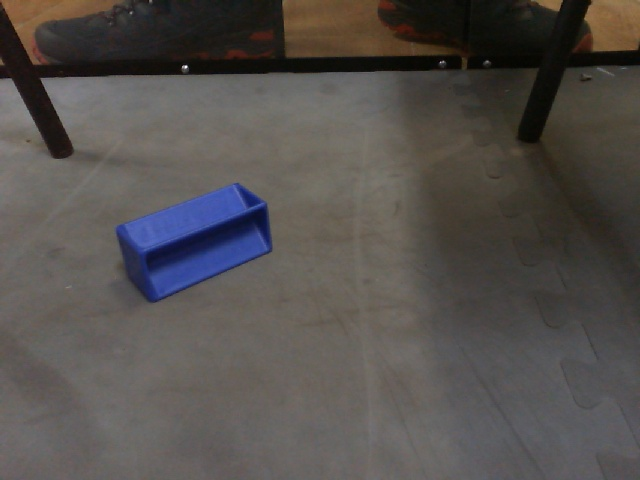BlueSample: (109, 181, 279, 305)
